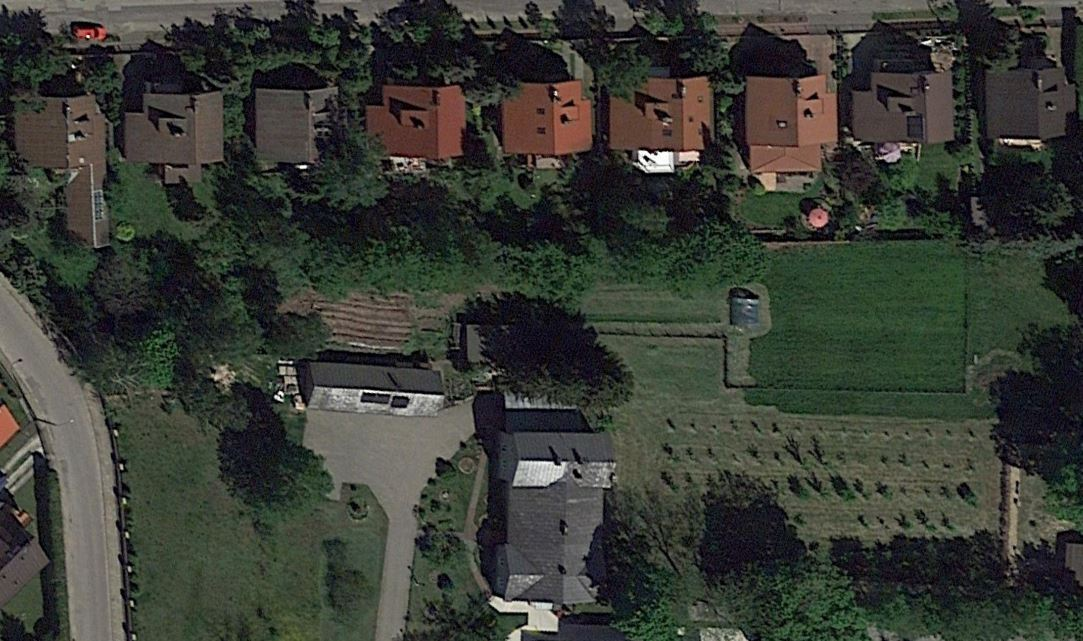family house: (486, 422, 628, 610), (13, 78, 108, 279), (605, 63, 734, 183), (109, 81, 238, 196), (736, 60, 849, 178), (347, 79, 479, 172), (494, 71, 606, 171), (967, 59, 1081, 151), (847, 61, 963, 147), (252, 86, 348, 168)
